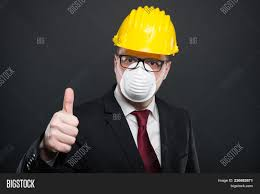Person_wearing_helmet: (107, 1, 183, 81)
